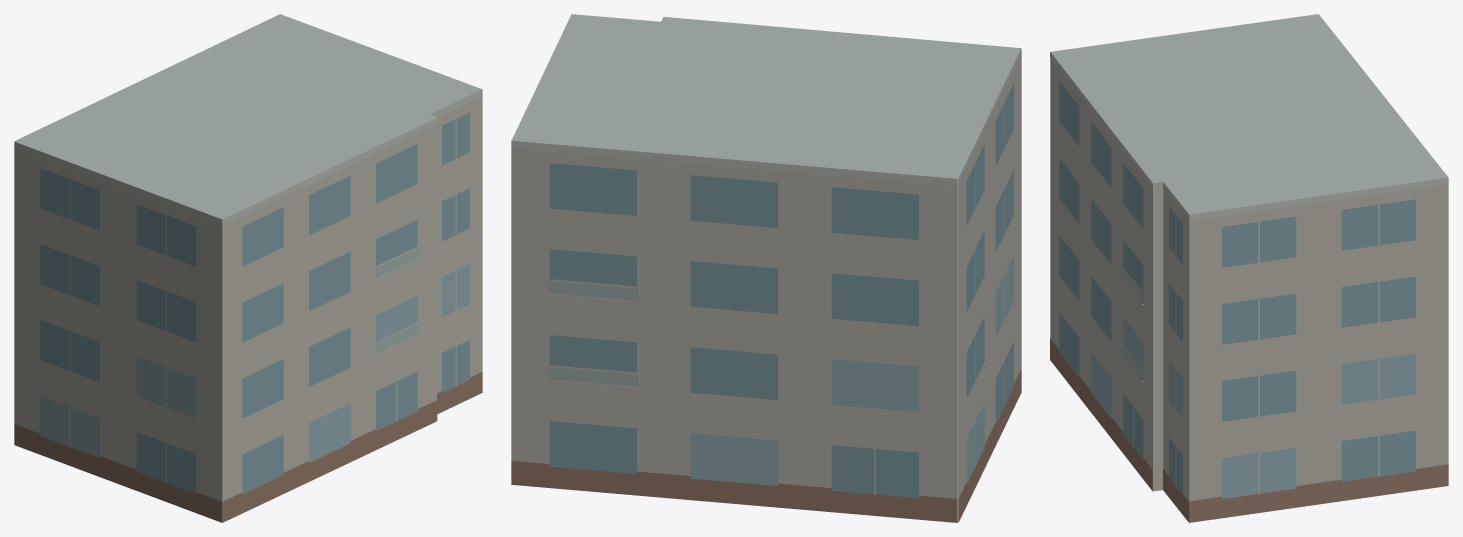
File: survey-upis-32733459.glb
The picture shows the model from 3 angles, left to right: view 1: azimuth 30°, elevation 25°; view 2: azimuth 150°, elevation 25°; view 3: azimuth 270°, elevation 25°; orthographic projection. The views are drawn at different scales.
Visible parts, largest first — view 1: survey-upis-32733459.tmp; view 2: survey-upis-32733459.tmp; view 3: survey-upis-32733459.tmp.
Part boxes in pixels (left/top/right/bottom): survey-upis-32733459.tmp: left=14, top=14, right=482, bottom=522; survey-upis-32733459.tmp: left=511, top=14, right=1021, bottom=522; survey-upis-32733459.tmp: left=1050, top=14, right=1448, bottom=522.
Bounding box in the file's own units: 15.78 × 11.3 × 13.25.
